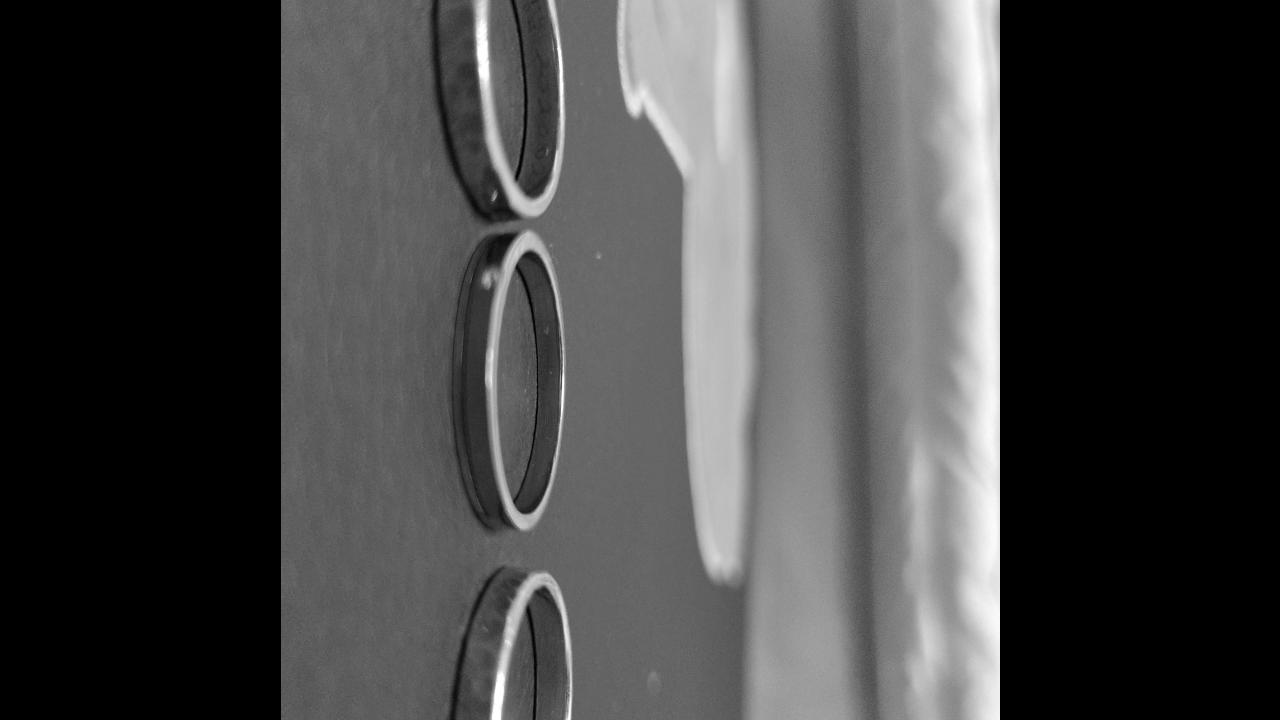ring: (452, 228, 568, 536), (433, 0, 565, 222), (448, 568, 573, 720)
